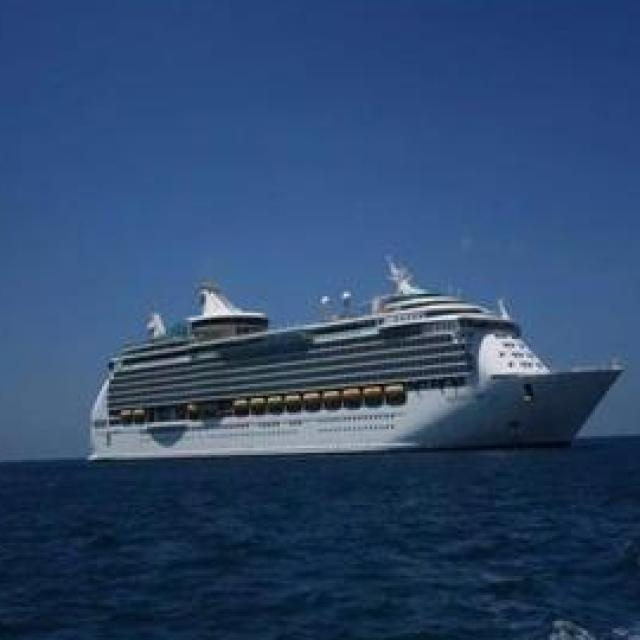passenger ship: (52, 269, 640, 478)
